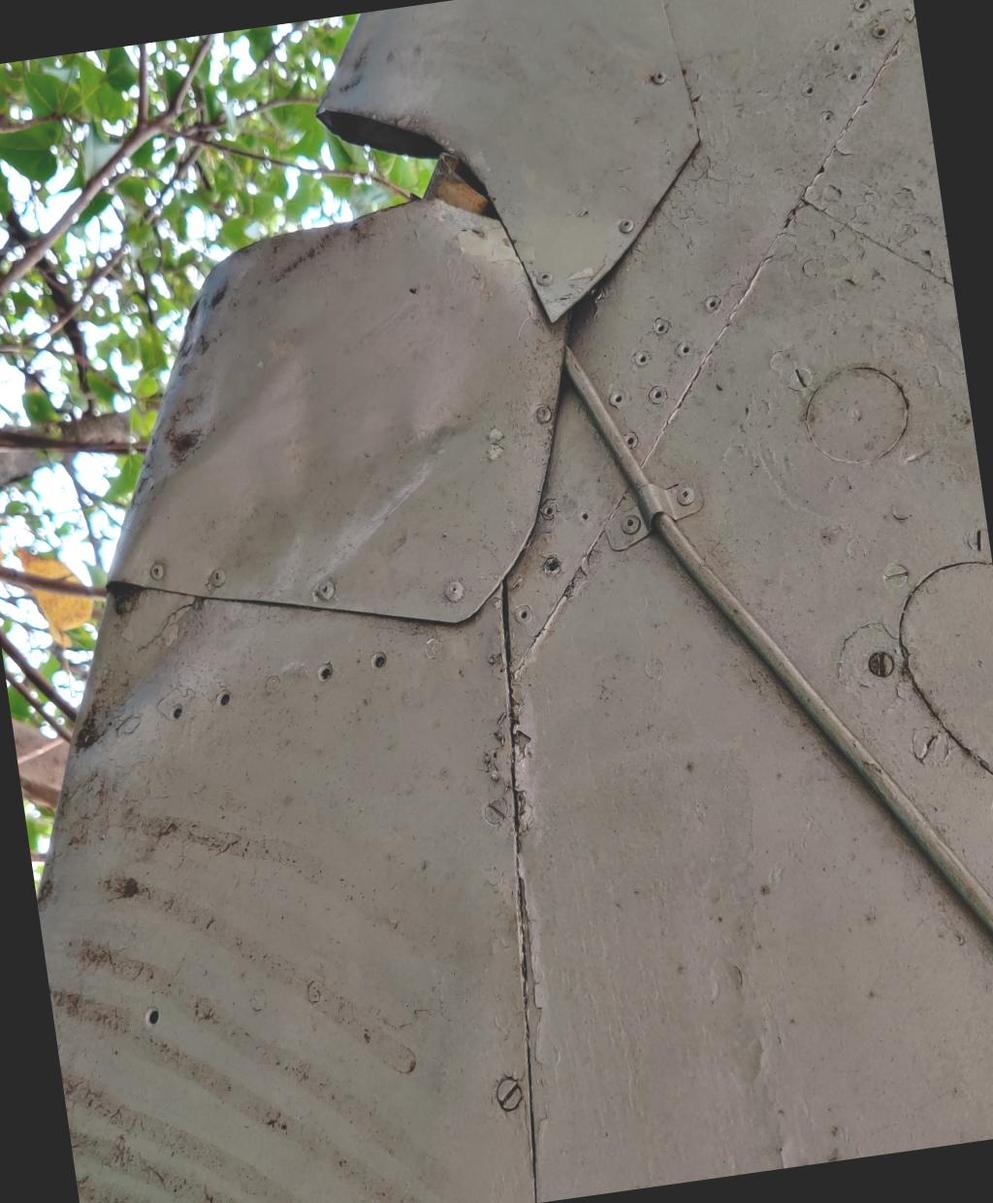dent: (0, 229, 567, 798)
